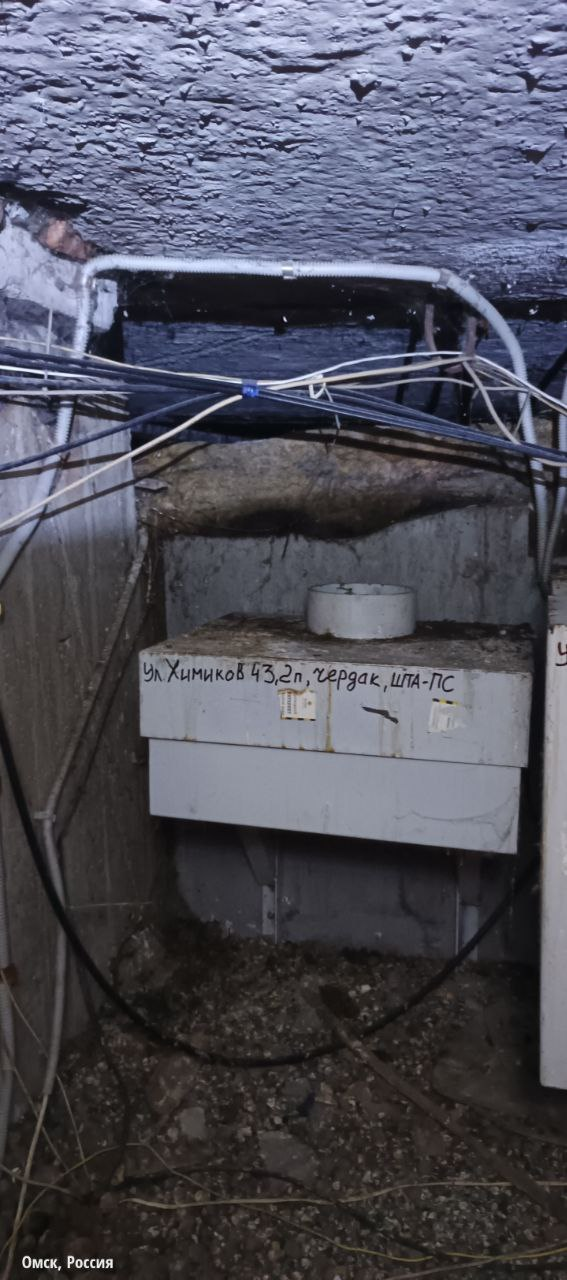shta-ps: (130, 578, 536, 855)
